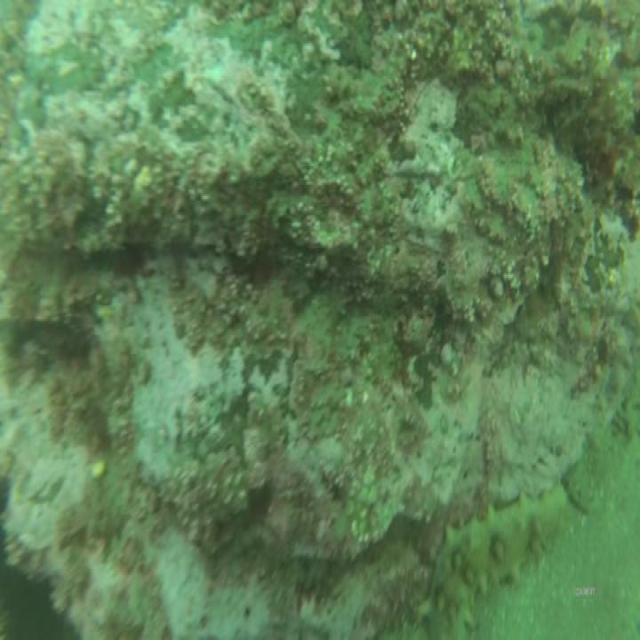holothurian: (429, 490, 567, 627)
